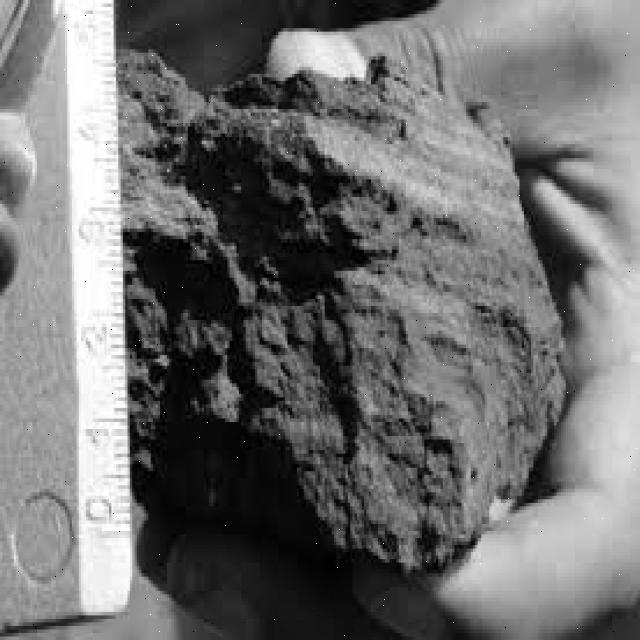Metamorphic: (116, 52, 575, 576)
